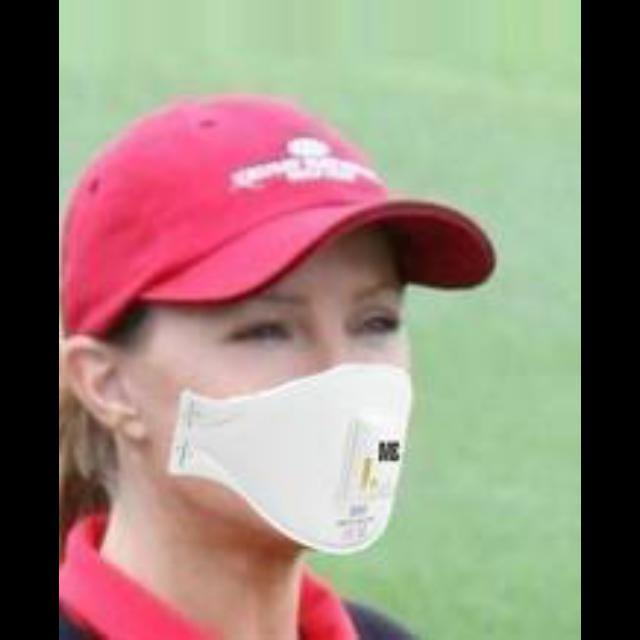suspicion: (113, 215, 427, 540)
